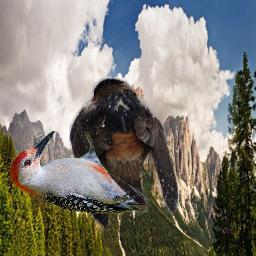Swallow: (69, 78, 180, 230)
Woodpecker: (10, 131, 148, 214)
